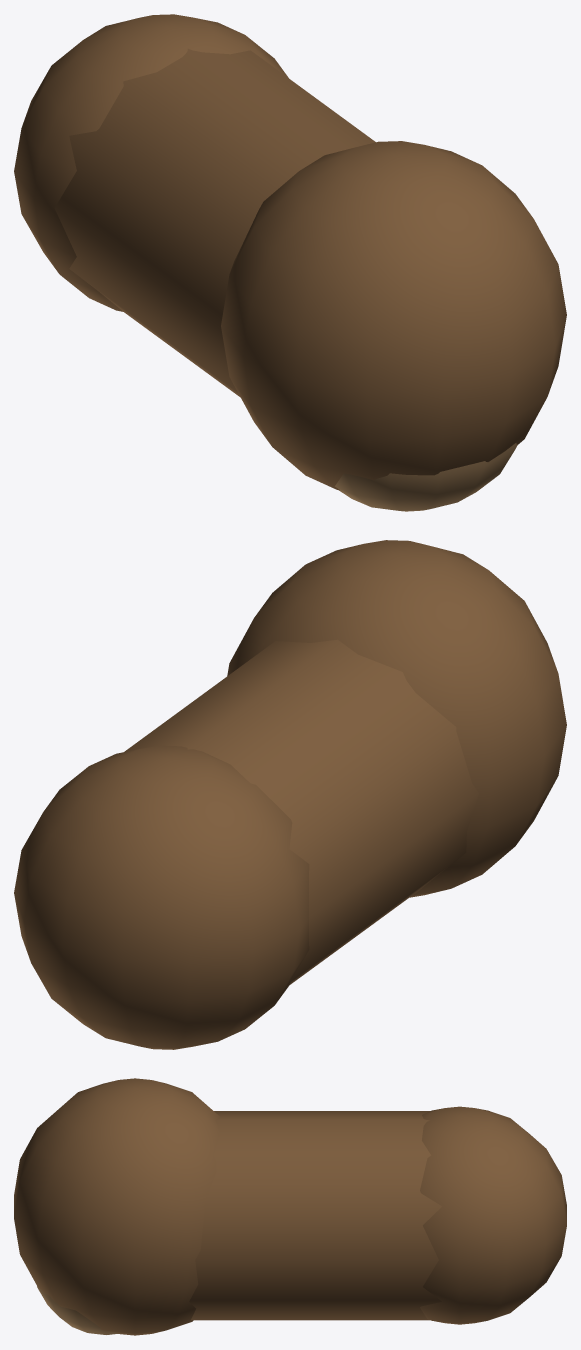
The model's file is body.glb.
3 views of the same model, one above another, from view 1: azimuth 30°, elevation 25°; view 2: azimuth 150°, elevation 25°; view 3: azimuth 270°, elevation 25° (orthographic). The views are drawn at different scales.
Parts seen in each view (by area): view 1: part_1, part_0, part_2, part_3; view 2: part_2, part_0, part_1; view 3: part_0, part_1, part_2, part_3.
Boxes of the visible parts, left/top/right/bottom form: part_1: left=221, top=141, right=566, bottom=490; part_0: left=54, top=48, right=375, bottom=397; part_2: left=14, top=14, right=288, bottom=311; part_3: left=335, top=443, right=517, bottom=511; part_2: left=14, top=745, right=309, bottom=1049; part_0: left=124, top=639, right=478, bottom=984; part_1: left=227, top=540, right=566, bottom=897; part_0: left=189, top=1111, right=441, bottom=1320; part_1: left=14, top=1078, right=220, bottom=1335; part_2: left=420, top=1106, right=566, bottom=1324; part_3: left=37, top=1286, right=120, bottom=1334.
Size of the model in its own units: 0.26 by 0.2745 by 0.5789.
